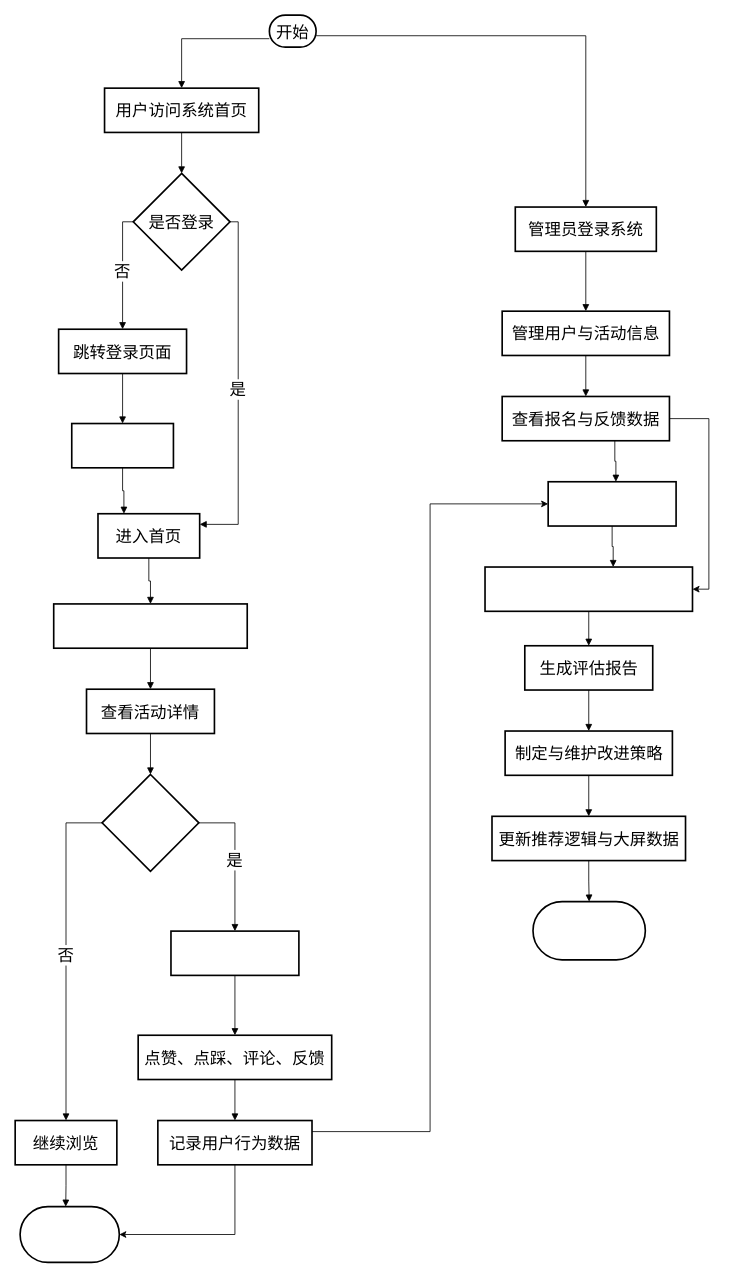
The diagram is 730 pixels wide and 1277 high, and some of its shapes have lost their labels. Each missing label, with the centre of its shape:
使用Pandas进行影响力评估: (x=588, y=589)
是否报名: (x=150, y=822)
浏览推荐活动与校园资讯: (x=150, y=626)
用户流程结束: (x=69, y=1234)
用户登录: (x=122, y=445)
管理员流程结束: (x=589, y=930)
行为数据入库: (x=611, y=503)
记录报名信息: (x=234, y=953)
